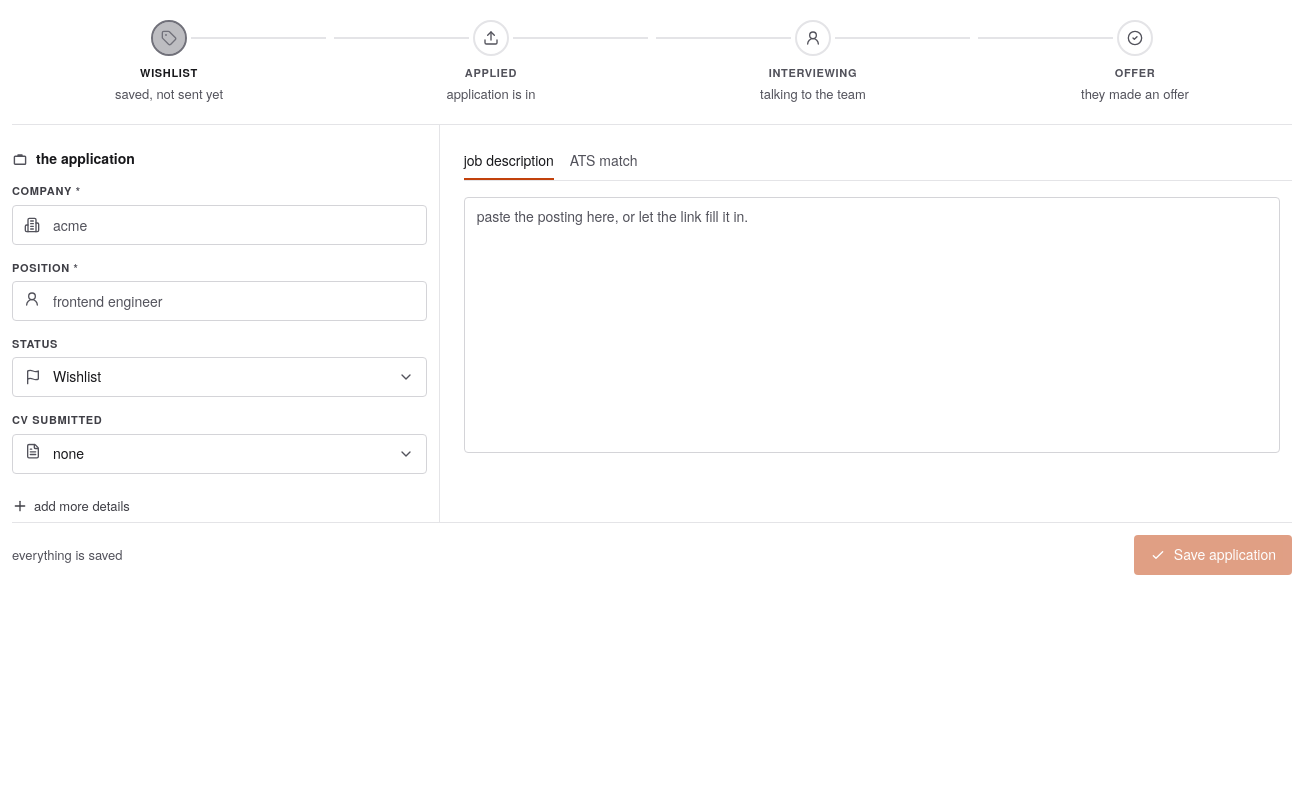
Test: the "CV submitted" field on an application › offers every CV the user has written
Click the dropdown named "cv submitted".
click(69, 453)  # box [12, 434, 427, 474]
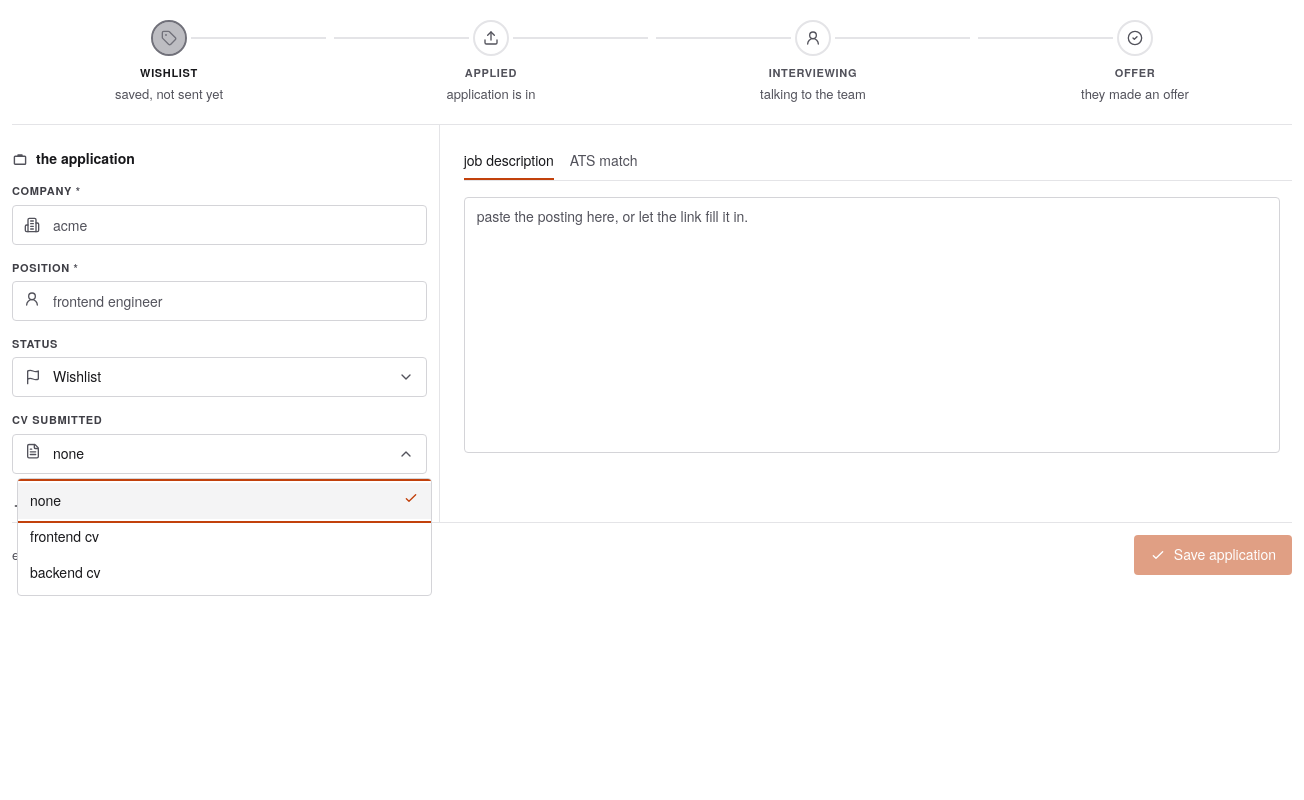
Result: the option "frontend cv" is shown at [30, 526, 99, 546]
Result: the option "backend cv" is shown at [30, 562, 101, 582]
